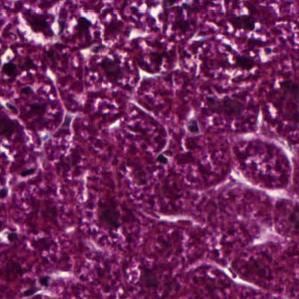inflammation: (16, 7, 60, 47), (67, 11, 103, 46), (134, 49, 173, 80), (221, 12, 261, 37)
